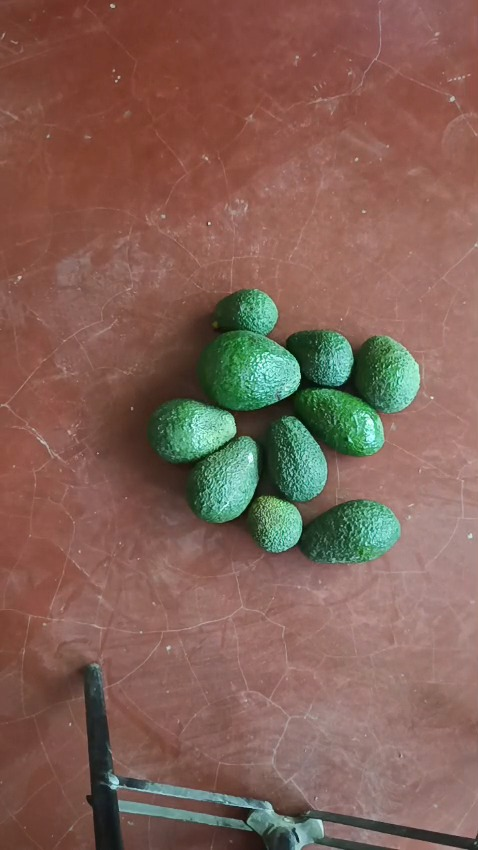Primera: (197, 330, 300, 410)
Segunda: (290, 386, 383, 457), (300, 498, 401, 562), (185, 435, 260, 521), (147, 398, 237, 463), (351, 334, 419, 412), (266, 414, 326, 501)
Tercera: (285, 328, 355, 387), (243, 493, 303, 553), (210, 288, 278, 337)
